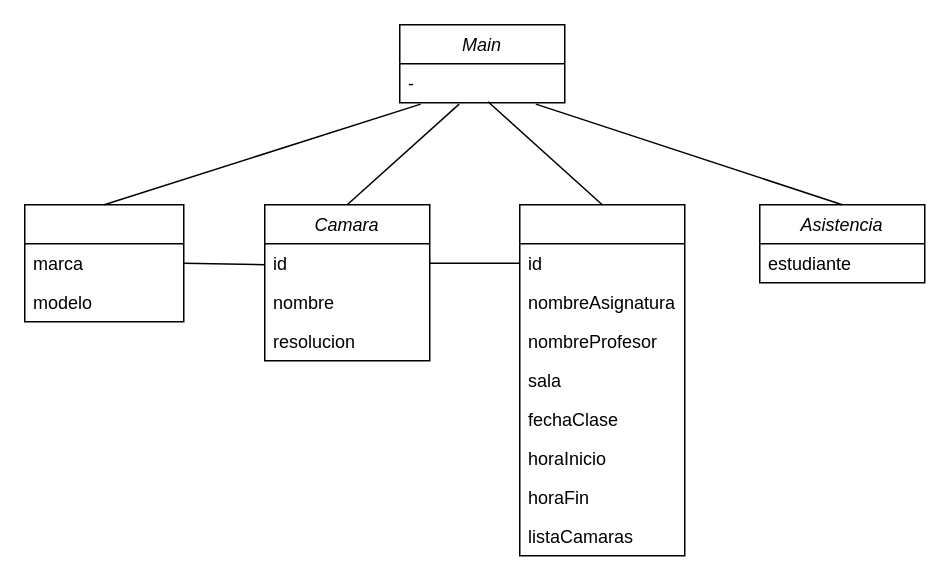
Some shapes in this 950 by 581 pixel diagram are drawn without their labels. The box of each missing label's shape, as (x1, y1, x2, y2) in pixels:
Dispositivo: (23, 203, 184, 322)
Sesion: (518, 203, 685, 556)
